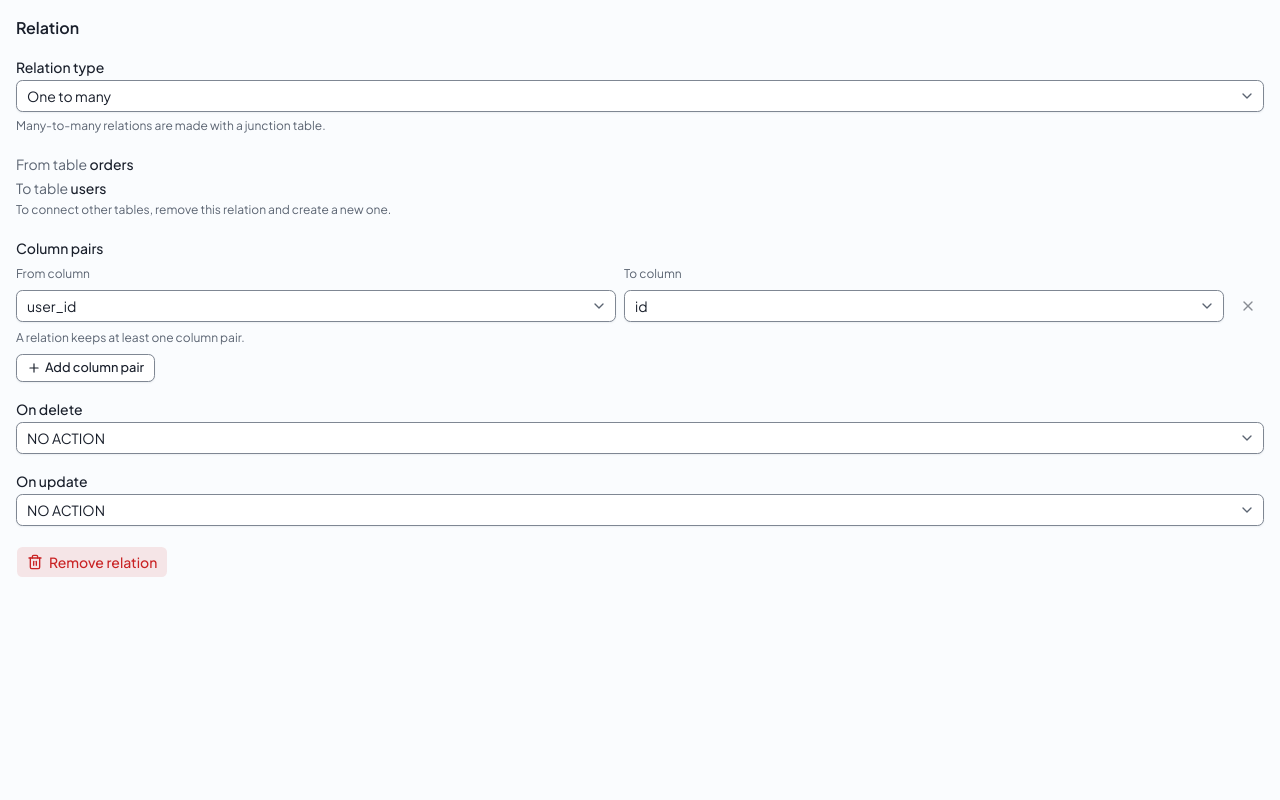
it: RelationPanel › offers only one-to-one and one-to-many
Click the dropdown named "Relation type" at point(69, 96), box left=16, top=80, right=1264, bottom=112
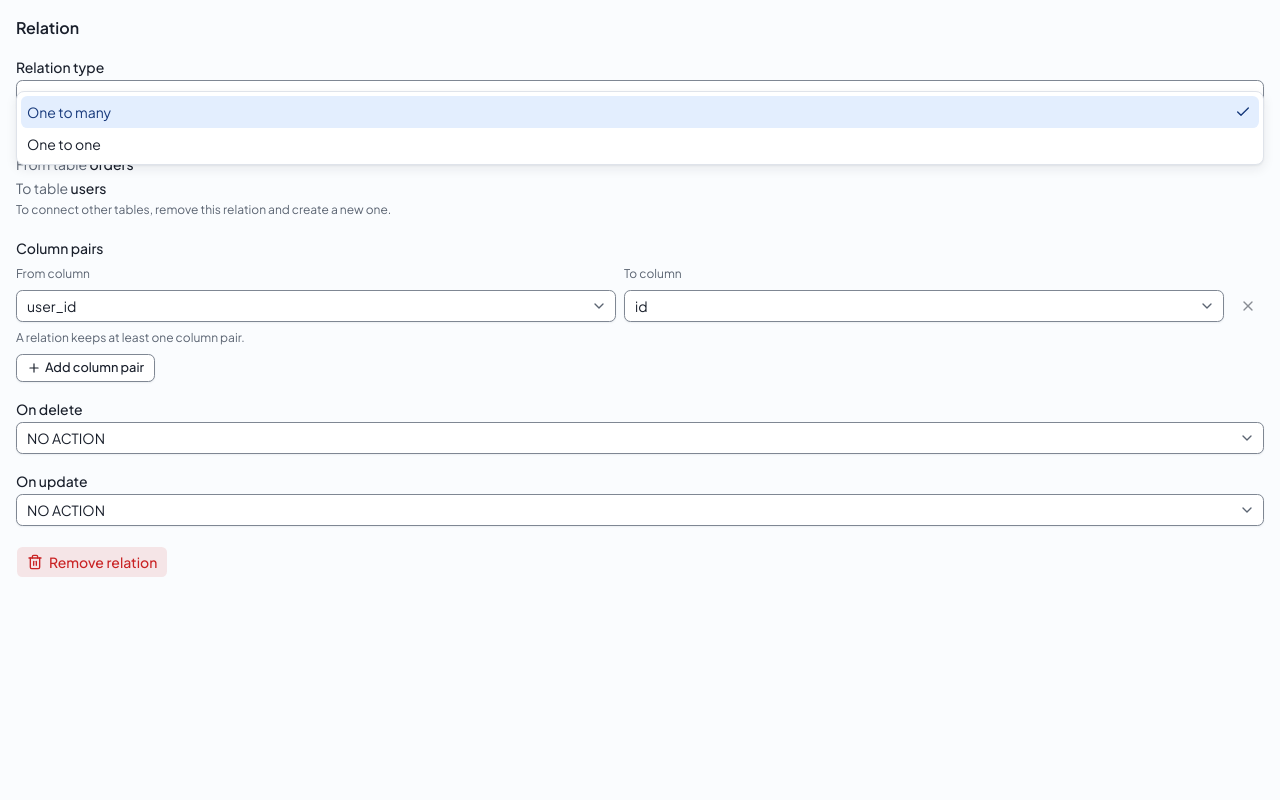
Expected: the options read "One to many", "One to one", in this order, left=21, top=96, right=1259, bottom=128; left=27, top=134, right=101, bottom=152
